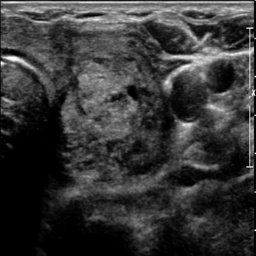mass: (66, 34, 166, 182)
